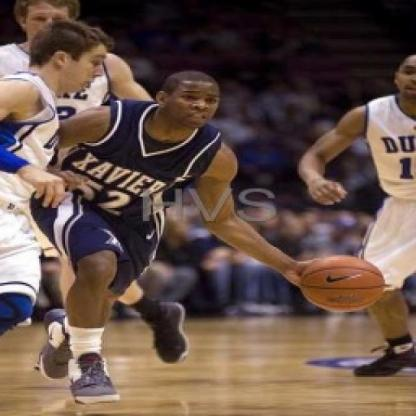basketball: (298, 254, 388, 314)
